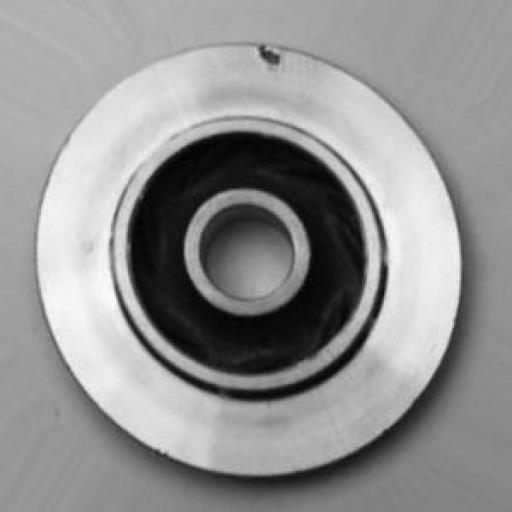defect: (212, 19, 320, 101)
